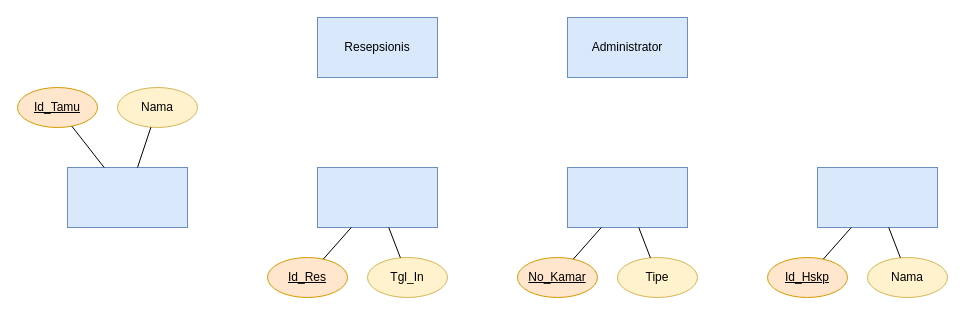
Image size: 965x315. Some labels were removed from this diagram. Each missing label, with the centre of its shape:
Housekeeping: pixel 877 197
Kamar: pixel 627 197
Reservasi: pixel 377 197
Tamu: pixel 127 197
